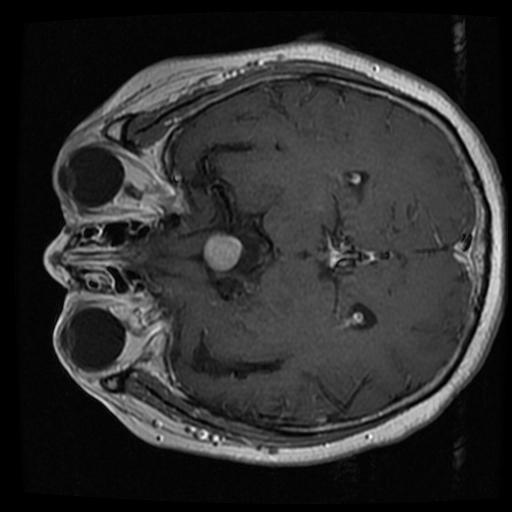pituitary tumour: (202, 233, 244, 271)
